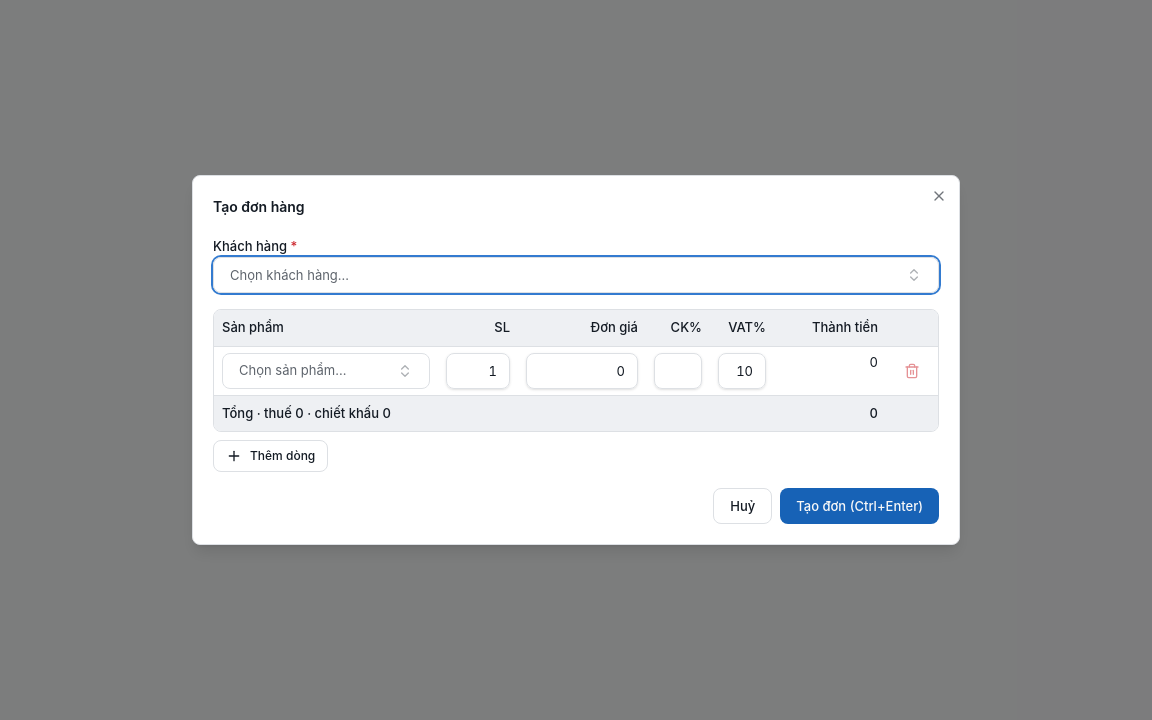
OrderFormDialog — field array (nợ test PR#4) › 422 theo dòng → lỗi hiện ĐÚNG dòng đó, không dồn vào toast chung
The width and height of the screenshot is (1152, 720).
# Điền tối thiểu để qua zod rồi mới tới BE
Replace the text in the 1st field with "5" at {"x": 478, "y": 370}, box [446,352,510,388]
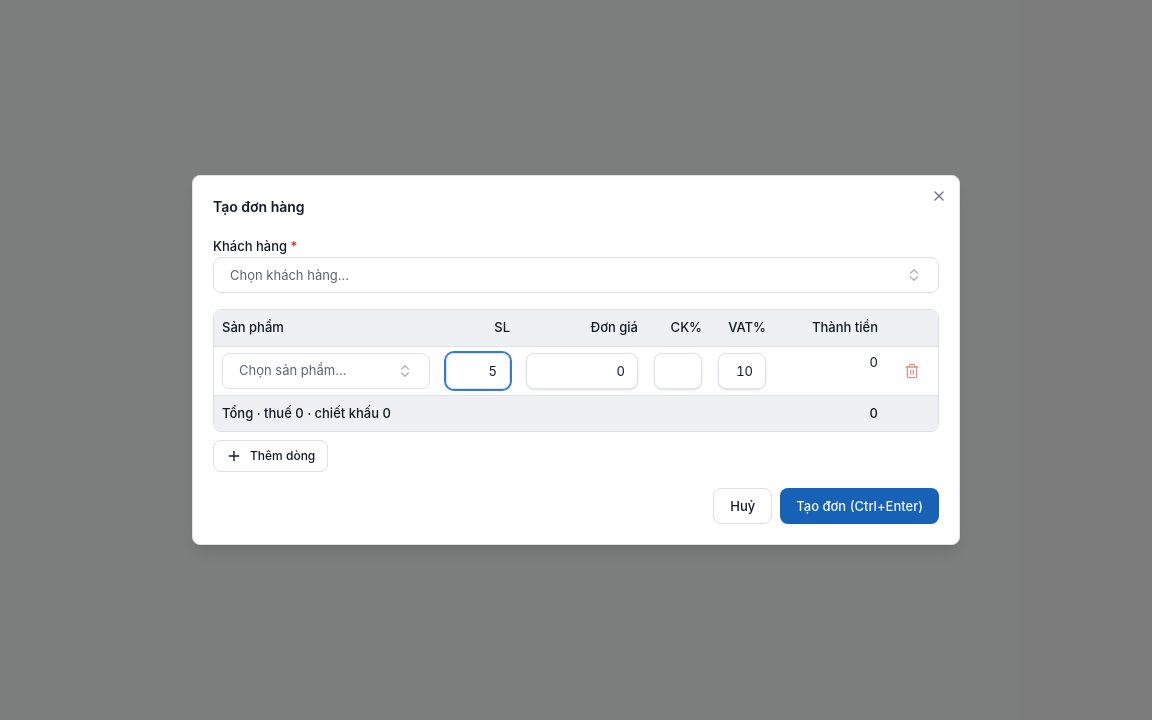
Replace the text in the 2nd field with "10000" at {"x": 582, "y": 370}, box [526,352,638,388]
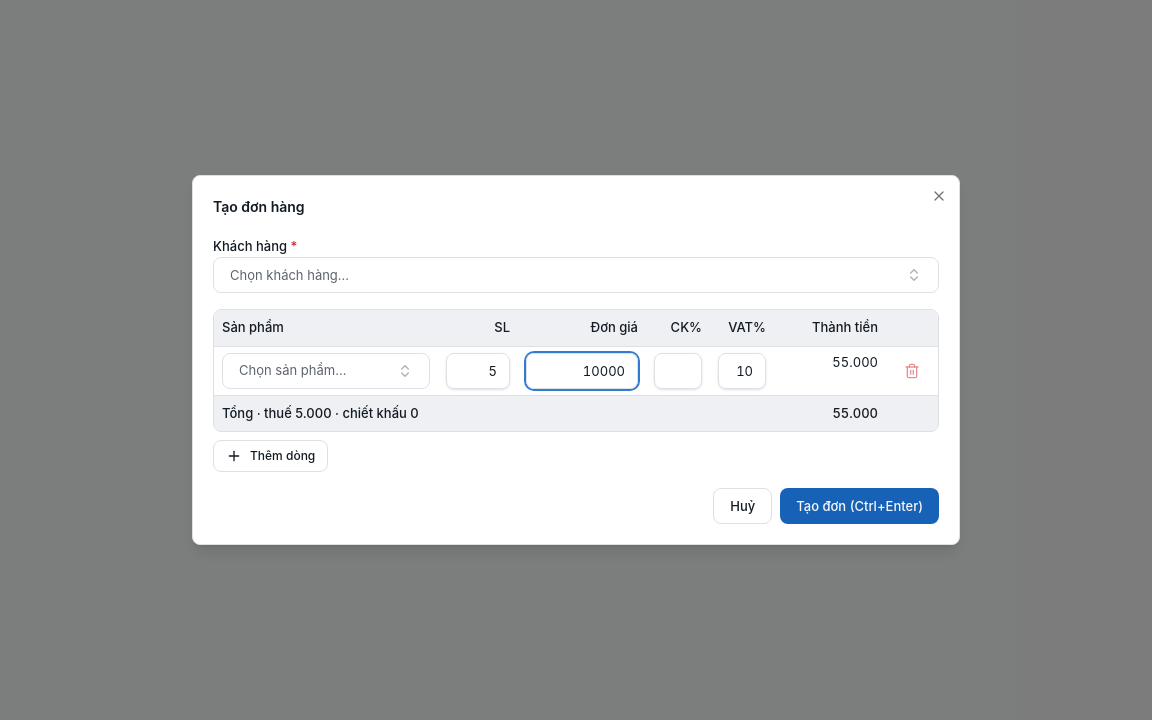
Type keys "{Control>}{Enter}{/Control}"
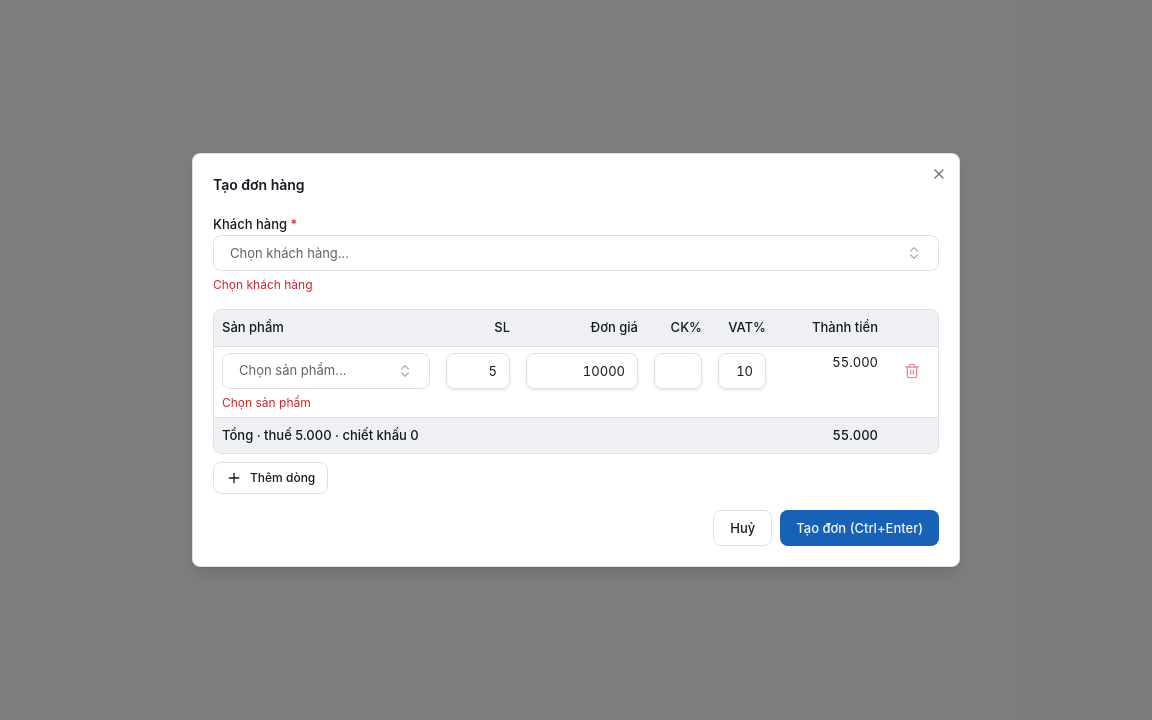
Expected: the text "Chọn khách hàng" is shown, [213,277,313,292]
Expected: the text "Chọn sản phẩm" is shown, [214,394,938,417]
